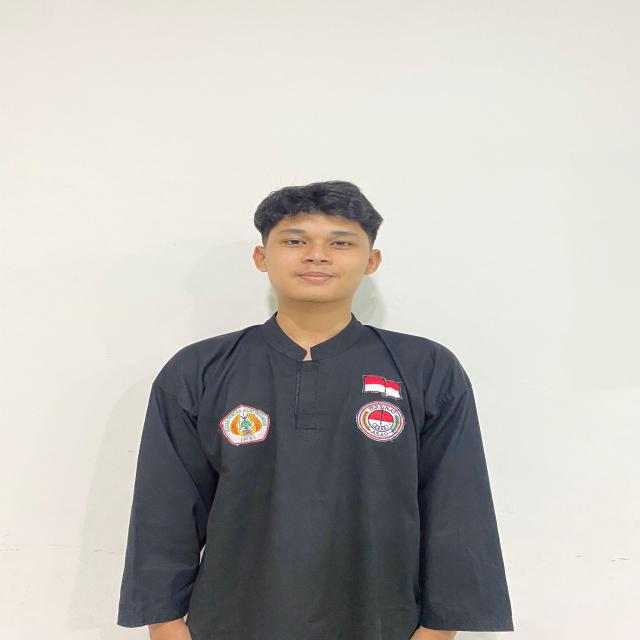nohelmet: (245, 176, 388, 306)
